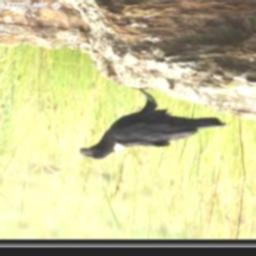Crow: (78, 88, 228, 160)
